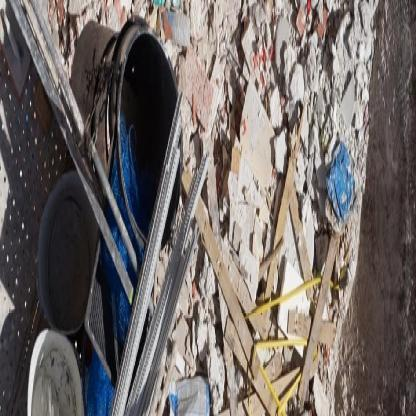brick: (42, 0, 378, 415)
